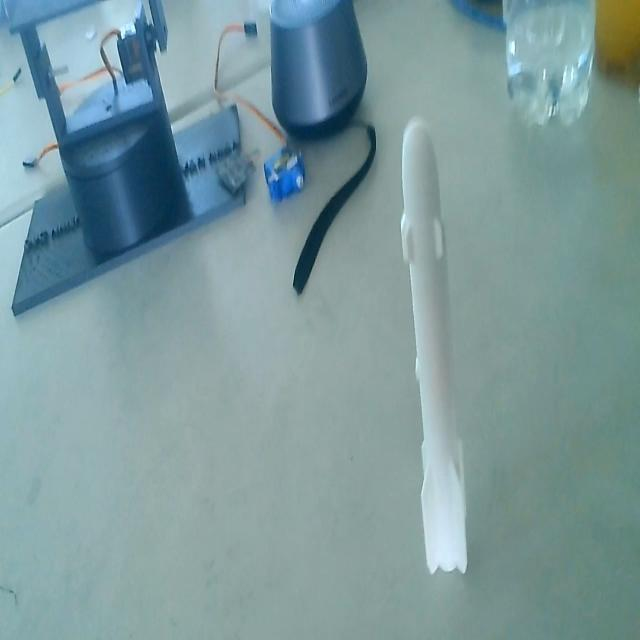Rocket: (395, 118, 470, 580)
